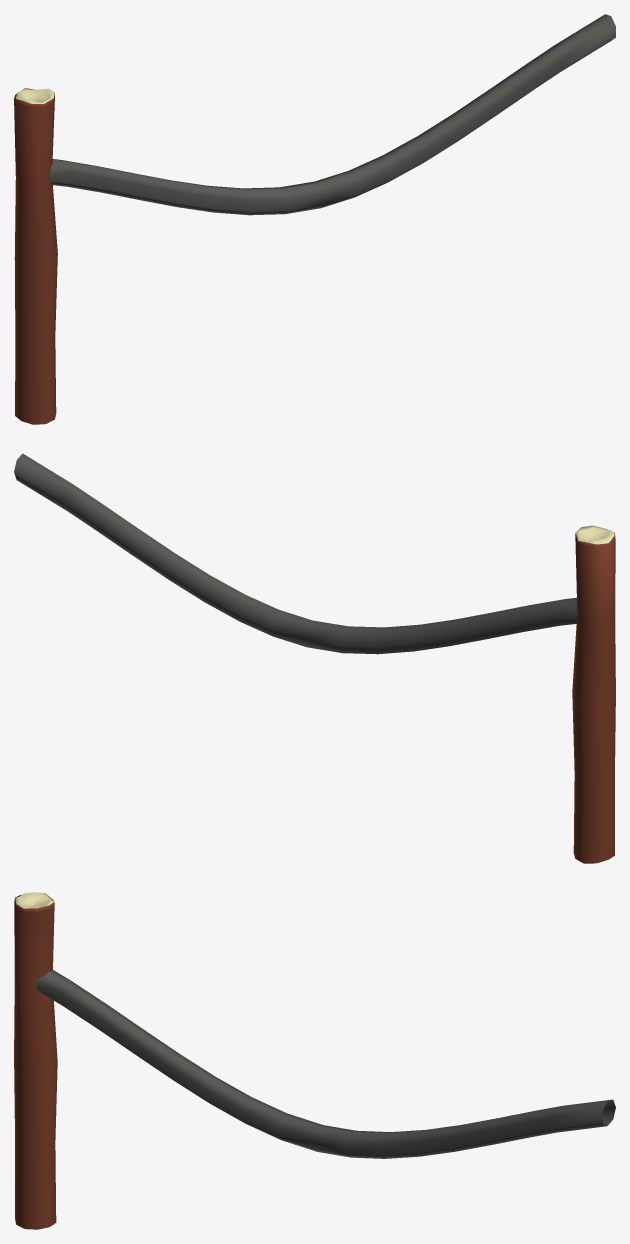
Rendered from WoodFence.fbx.
3 views of the same model, one above another, from view 1: azimuth 30°, elevation 25°; view 2: azimuth 150°, elevation 25°; view 3: azimuth 330°, elevation 25° (orthographic).
Parts seen in each view (by area): view 1: Cylinder.008, Cylinder.006; view 2: Cylinder.008, Cylinder.006; view 3: Cylinder.008, Cylinder.006.
Part boxes in pixels (x1,y1,x2,y2): Cylinder.008: (50,14,615,215); Cylinder.006: (14,88,57,424); Cylinder.008: (14,453,577,654); Cylinder.006: (572,525,615,863); Cylinder.008: (37,970,615,1158); Cylinder.006: (14,892,57,1229).
Size of the model in its own units: 541 by 282 by 34.42.
